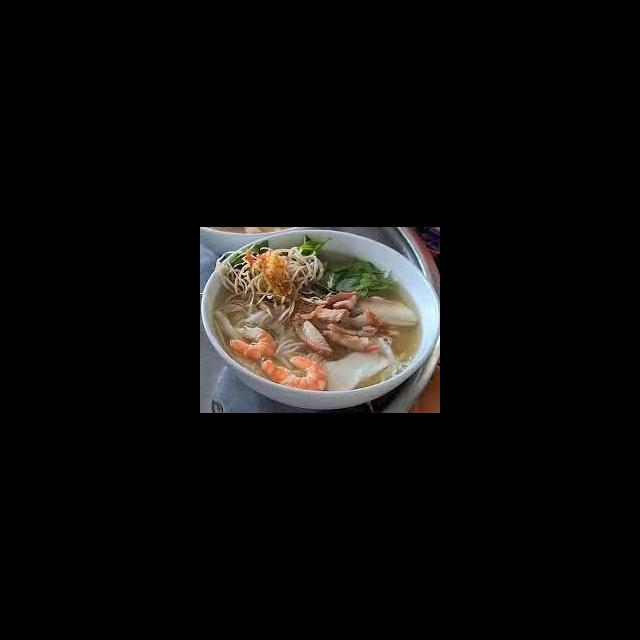bun: (271, 330, 308, 372)
ca: (318, 347, 394, 395), (353, 291, 423, 329)
thit heo quay: (291, 308, 335, 358), (317, 327, 382, 353), (292, 304, 353, 325), (334, 308, 378, 331), (321, 288, 359, 312)
tom: (260, 351, 331, 395), (226, 320, 278, 363)
